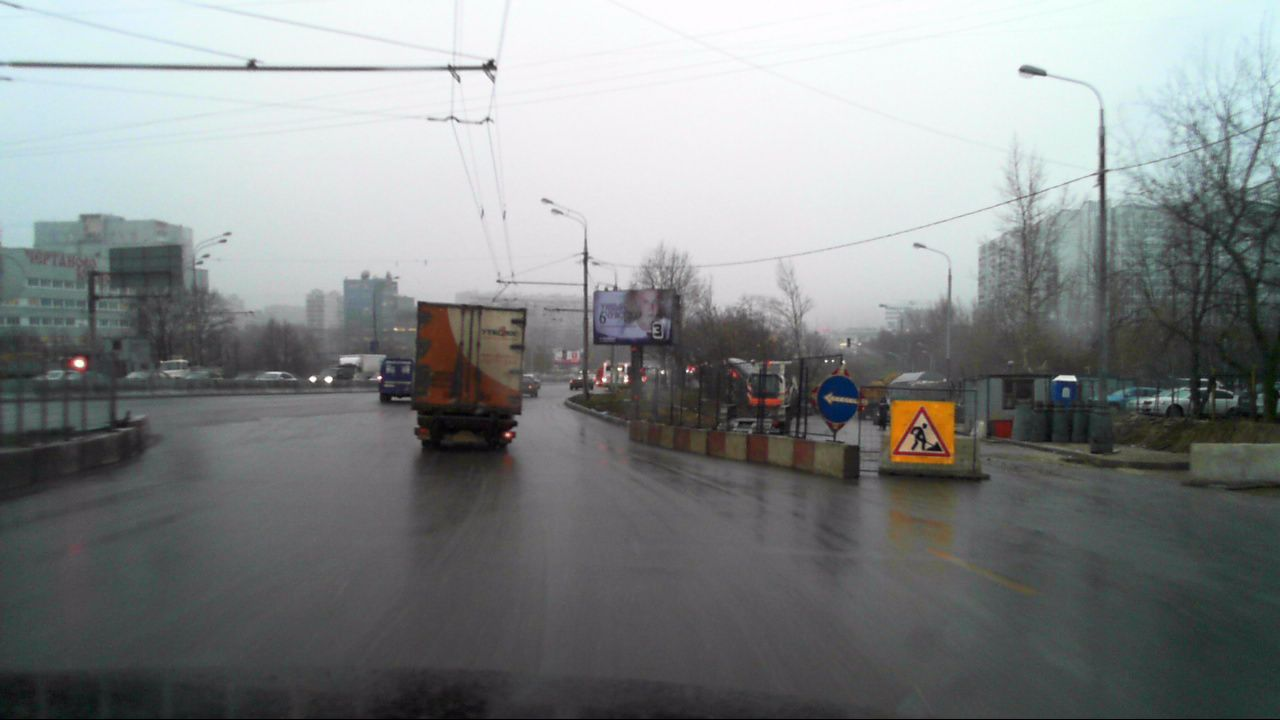Turn Left: (818, 376, 859, 421)
